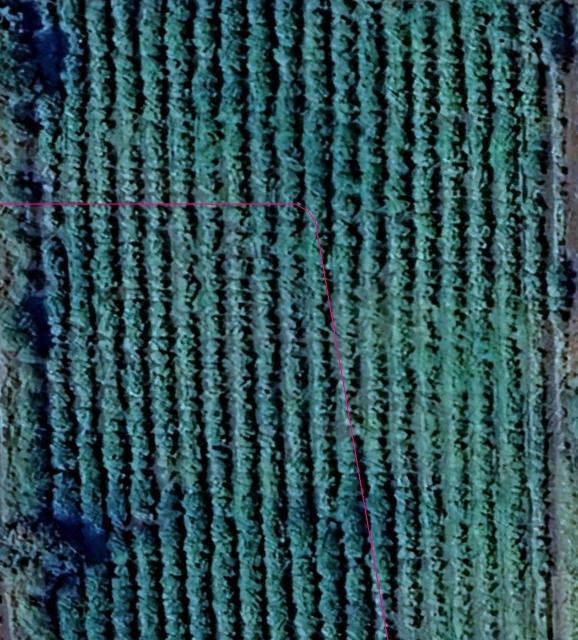Farms: (13, 1, 560, 638)
